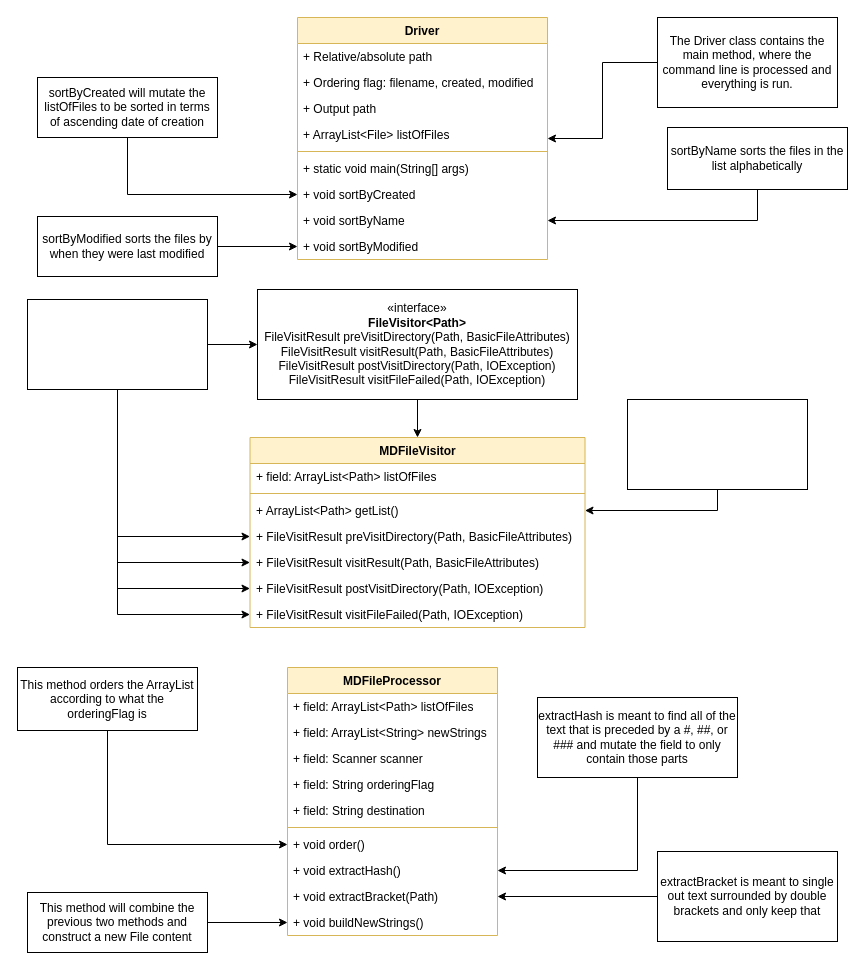
The diagram is 865 pixels wide and 970 high, and some of its shapes have lost their labels. Here are the shapes that lost their labels. From the top down, the centre of each, then its label:
pixel 117 344: Four methods part of the FileVisitor<T> interface
pixel 717 444: Method used to retrieve the listOfFiles field
